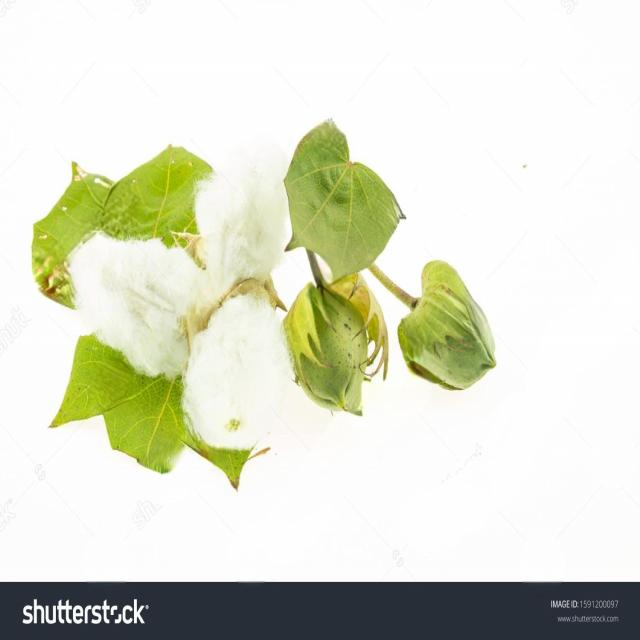Late_blight: (59, 135, 299, 465)
